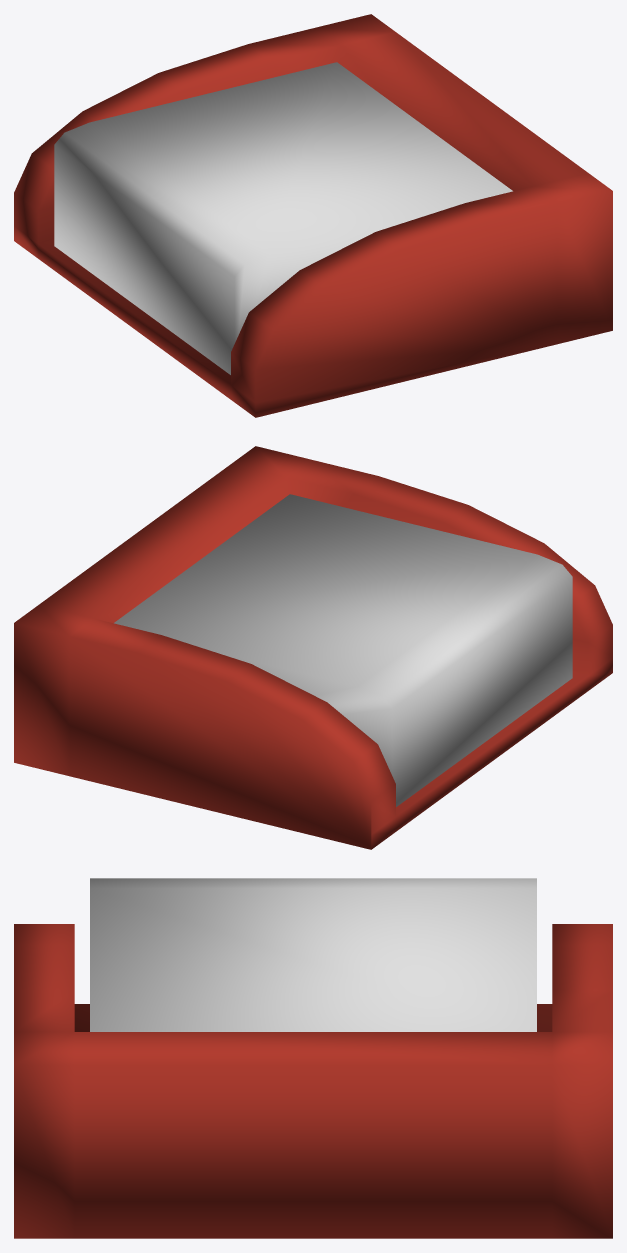
The model's file is PaperTray1.fbx.
3 views of the same model, one above another, from view 1: azimuth 30°, elevation 25°; view 2: azimuth 150°, elevation 25°; view 3: azimuth 270°, elevation 25° (orthographic). The views are drawn at different scales.
Visible parts, largest first — view 1: Plane.007; view 2: Plane.007; view 3: Plane.007.
Part boxes in pixels (bbox=[...]): Plane.007: bbox=[14, 14, 612, 417]; Plane.007: bbox=[14, 446, 612, 849]; Plane.007: bbox=[14, 878, 612, 1238].
Bounding box in the file's own units: 40.13 × 15 × 47.
